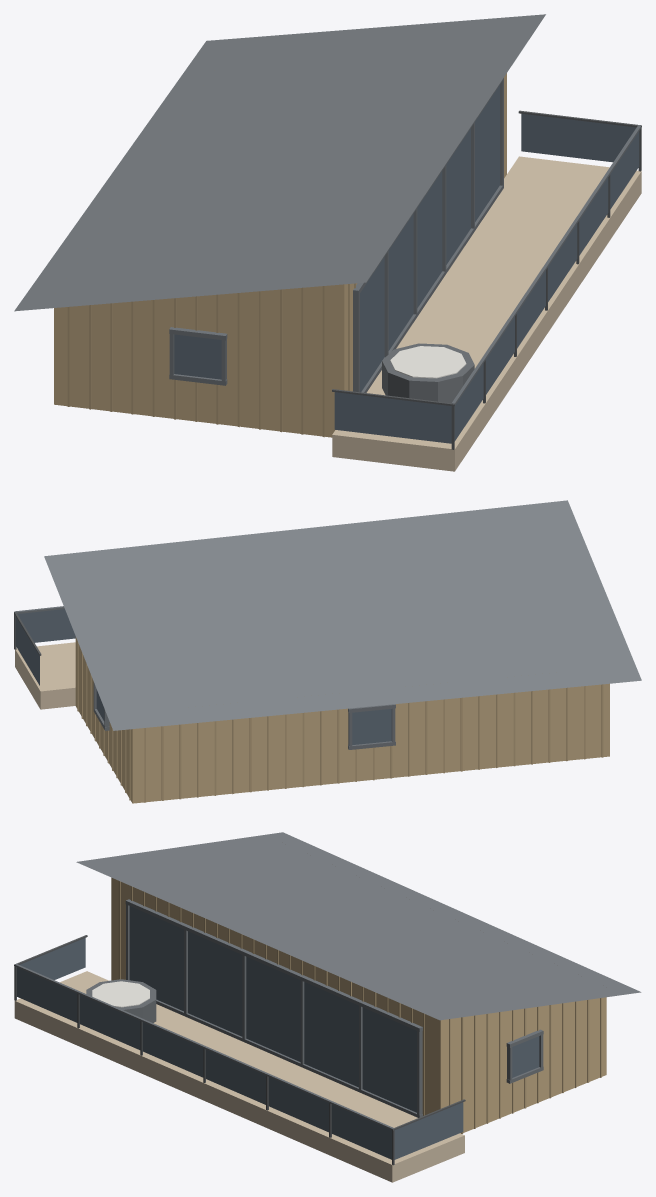
3 renders of one model, top to bottom at view 1: azimuth 30°, elevation 25°; view 2: azimuth 150°, elevation 25°; view 3: azimuth 270°, elevation 25°, orthographic. The views are drawn at different scales.
Visible parts, largest first — view 1: slate, door_wood, larch, slate_dk, door_wood_p, window_glass_007, window_glass_008, band_dark, window_glass_010, window_glass_011, window_glass_012, window_glass_013 (+10 smaller); view 2: slate, door_wood, door_wood_p, larch, window_glass_006, window_glass_015, slate_dk, window_glass_008; view 3: slate, door_wood, larch, slate_dk, window_glass_013, window_glass_010, window_glass_011, window_glass_012, window_glass_009, door_wood_p, window_glass_008, window_glass_001 (+10 smaller).
Part boxes in pixels (left/top/right/bottom): slate: left=14, top=14, right=545, bottom=311; door_wood: left=54, top=73, right=506, bottom=437; larch: left=332, top=156, right=641, bottom=471; slate_dk: left=169, top=78, right=641, bottom=405; door_wood_p: left=67, top=283, right=355, bottom=437; window_glass_007: left=334, top=392, right=451, bottom=443; window_glass_008: left=521, top=113, right=636, bottom=162; band_dark: left=382, top=343, right=474, bottom=403; window_glass_010: left=388, top=214, right=413, bottom=350; window_glass_011: left=417, top=171, right=442, bottom=307; window_glass_012: left=446, top=128, right=470, bottom=264; window_glass_013: left=475, top=85, right=499, bottom=221; slate: left=44, top=500, right=641, bottom=730; door_wood: left=75, top=636, right=609, bottom=803; door_wood_p: left=77, top=641, right=603, bottom=802; larch: left=15, top=642, right=75, bottom=709; window_glass_006: left=17, top=609, right=75, bottom=642; window_glass_015: left=352, top=709, right=391, bottom=744; slate_dk: left=15, top=606, right=395, bottom=749; window_glass_008: left=15, top=616, right=39, bottom=685; slate: left=76, top=832, right=641, bottom=1020; door_wood: left=111, top=877, right=606, bottom=1133; larch: left=14, top=971, right=464, bottom=1182; slate_dk: left=14, top=899, right=543, bottom=1129; window_glass_013: left=362, top=1007, right=416, bottom=1112; window_glass_010: left=188, top=931, right=242, bottom=1036; window_glass_011: left=246, top=957, right=300, bottom=1061; window_glass_012: left=304, top=982, right=358, bottom=1087; window_glass_009: left=129, top=906, right=183, bottom=1011; door_wood_p: left=118, top=881, right=601, bottom=1133; window_glass_008: left=394, top=1102, right=463, bottom=1159; window_glass_001: left=16, top=967, right=77, bottom=1022.
Size of the model in its own units: 16.43 by 3.9 by 16.18.
